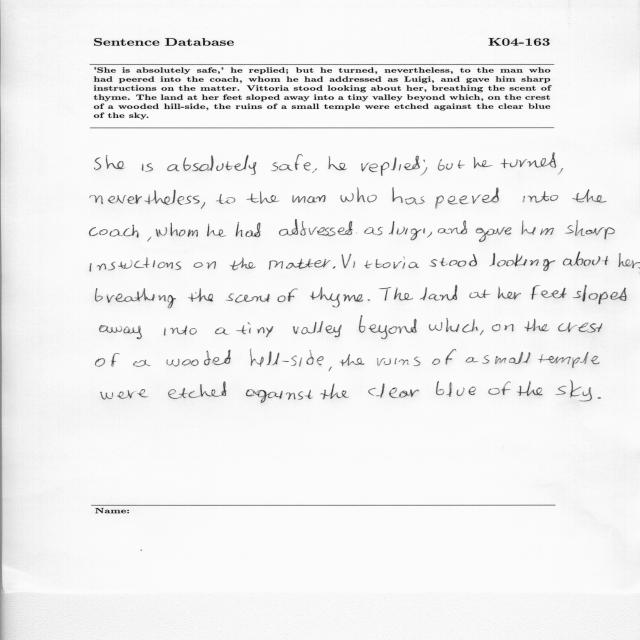word: (167, 155, 256, 175), (90, 189, 199, 205), (95, 288, 176, 308), (90, 257, 181, 272), (435, 188, 499, 209), (359, 316, 417, 339), (250, 349, 324, 367), (279, 220, 357, 237), (361, 156, 427, 176), (342, 253, 419, 269), (490, 253, 556, 271), (166, 350, 231, 367), (310, 287, 363, 307), (168, 381, 226, 399), (573, 285, 627, 304), (538, 352, 599, 368), (565, 220, 615, 239), (246, 389, 312, 403), (501, 153, 556, 168), (555, 380, 592, 402), (293, 321, 342, 337), (368, 383, 419, 398), (429, 318, 478, 332), (389, 221, 425, 240), (271, 154, 311, 171), (269, 259, 330, 270), (89, 225, 139, 238), (436, 381, 476, 397), (156, 222, 198, 237), (563, 252, 608, 266), (429, 254, 477, 267), (420, 285, 457, 301), (100, 325, 142, 339), (482, 352, 531, 364), (392, 188, 425, 205), (340, 188, 377, 203), (236, 323, 273, 338), (531, 285, 567, 300), (101, 389, 149, 400), (476, 227, 511, 242), (572, 189, 607, 203), (558, 322, 602, 333), (379, 287, 413, 301), (320, 384, 349, 400), (522, 221, 554, 235), (226, 293, 270, 303), (247, 191, 280, 204), (523, 191, 558, 203), (438, 221, 467, 235), (517, 381, 543, 396), (377, 357, 420, 366), (432, 349, 456, 365), (236, 222, 261, 237), (188, 288, 213, 302), (230, 257, 256, 270), (96, 353, 120, 367), (618, 253, 640, 268), (164, 326, 197, 336), (488, 381, 511, 395), (524, 319, 549, 331), (340, 354, 365, 366), (498, 287, 521, 300), (277, 289, 298, 302), (292, 195, 326, 203), (106, 155, 125, 169), (207, 223, 226, 237), (328, 158, 347, 171), (473, 157, 493, 168), (446, 160, 465, 170), (216, 194, 235, 204), (193, 261, 216, 269), (470, 290, 491, 298), (492, 324, 514, 331), (364, 227, 383, 235), (133, 360, 151, 367), (215, 328, 230, 335), (142, 163, 153, 172), (95, 157, 101, 170), (438, 159, 444, 171), (466, 357, 478, 362), (558, 168, 563, 175), (427, 232, 432, 238), (201, 202, 205, 209), (312, 168, 317, 173), (147, 237, 151, 242), (480, 330, 483, 335), (329, 367, 332, 371), (333, 266, 336, 269), (598, 397, 601, 399), (638, 267, 640, 269), (368, 299, 370, 301), (328, 156, 330, 157)
